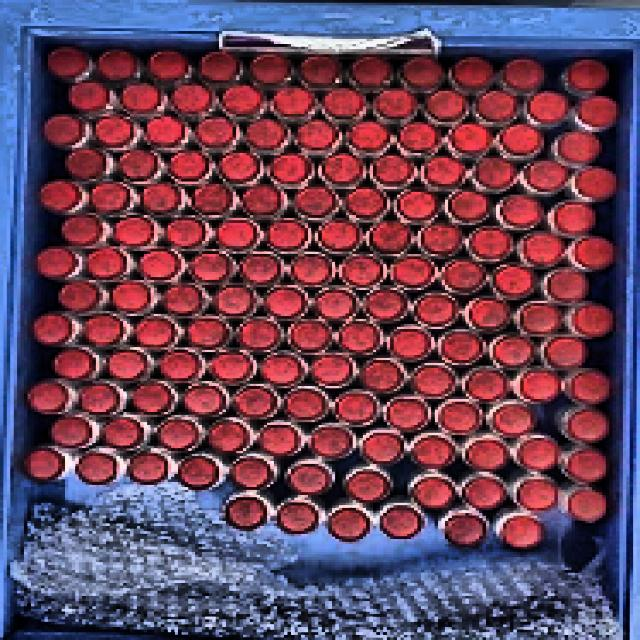vial: (568, 59, 615, 92), (442, 515, 486, 548), (576, 168, 622, 198), (277, 504, 321, 535), (568, 410, 608, 444), (568, 492, 610, 524), (501, 517, 543, 549), (413, 438, 459, 467), (574, 372, 614, 405), (413, 364, 454, 396), (347, 123, 393, 151), (474, 158, 514, 190), (369, 223, 413, 252), (41, 115, 82, 146), (166, 152, 208, 182), (84, 316, 126, 346), (312, 356, 354, 386), (80, 384, 122, 414), (229, 458, 271, 488), (381, 507, 420, 539), (221, 86, 264, 115), (373, 157, 414, 187), (39, 183, 80, 213), (365, 290, 406, 320), (527, 92, 567, 122), (560, 132, 600, 162), (471, 299, 511, 329), (467, 477, 507, 507), (130, 454, 170, 484), (60, 216, 106, 242), (554, 204, 595, 233), (68, 83, 109, 112), (65, 150, 106, 179), (340, 323, 381, 352), (438, 402, 479, 431), (412, 475, 450, 506), (387, 401, 429, 429), (574, 308, 616, 336), (226, 498, 268, 526), (247, 118, 286, 148), (468, 440, 507, 470), (88, 185, 131, 212), (463, 370, 506, 397), (426, 158, 466, 187), (501, 197, 541, 226), (86, 249, 126, 278), (34, 248, 74, 277), (516, 481, 556, 510), (78, 455, 118, 484), (262, 354, 298, 386), (450, 124, 491, 152), (197, 118, 238, 146), (345, 189, 386, 217), (215, 220, 256, 248), (443, 262, 484, 290), (32, 314, 73, 342), (492, 406, 533, 434), (114, 218, 152, 248), (320, 220, 358, 250), (566, 451, 604, 481), (138, 252, 180, 279), (314, 291, 356, 318), (360, 435, 402, 462), (51, 418, 93, 445), (478, 91, 517, 120), (399, 122, 438, 151), (44, 48, 84, 76), (526, 162, 566, 190), (144, 118, 184, 146), (190, 254, 230, 282), (162, 285, 202, 313), (54, 351, 94, 379), (161, 352, 201, 380), (348, 472, 388, 500), (156, 421, 196, 449), (493, 267, 536, 293), (330, 509, 367, 539), (312, 426, 349, 456), (121, 84, 162, 111), (404, 57, 442, 86), (146, 53, 188, 79), (427, 90, 466, 118), (322, 155, 361, 183), (215, 288, 254, 316), (336, 393, 375, 421), (252, 52, 288, 82), (301, 56, 341, 83), (507, 59, 543, 89), (581, 97, 617, 127), (190, 186, 230, 213), (342, 257, 382, 284), (240, 255, 280, 282), (390, 328, 430, 355), (30, 382, 66, 412), (522, 306, 562, 333), (441, 334, 481, 361), (520, 438, 556, 468), (95, 117, 132, 146), (267, 289, 304, 318), (181, 458, 218, 487), (352, 57, 390, 85), (324, 87, 362, 115), (298, 121, 336, 149), (272, 154, 310, 182), (173, 84, 211, 112), (421, 224, 459, 252), (292, 256, 330, 284), (97, 51, 136, 78), (295, 188, 334, 215), (450, 193, 489, 220), (292, 322, 331, 349), (104, 420, 143, 447), (142, 184, 178, 213), (108, 351, 144, 380), (210, 422, 246, 451), (501, 126, 541, 152), (267, 221, 307, 247), (243, 187, 280, 215), (417, 295, 454, 323), (362, 362, 399, 390), (289, 466, 326, 494), (378, 89, 416, 116), (219, 154, 257, 181), (58, 283, 96, 310), (241, 321, 279, 348), (548, 338, 586, 365), (134, 386, 173, 412), (277, 87, 313, 115), (120, 152, 156, 180), (188, 319, 225, 346), (185, 386, 222, 413), (393, 259, 431, 285), (287, 391, 325, 417), (522, 373, 560, 399), (472, 227, 506, 256), (262, 426, 297, 454), (136, 319, 172, 346), (212, 354, 248, 381), (523, 236, 559, 263), (494, 337, 530, 364), (552, 273, 586, 301), (201, 52, 236, 79), (112, 284, 147, 311), (454, 59, 490, 85), (167, 220, 203, 246), (238, 389, 273, 415), (400, 192, 434, 218), (28, 451, 62, 476), (576, 240, 610, 264)
